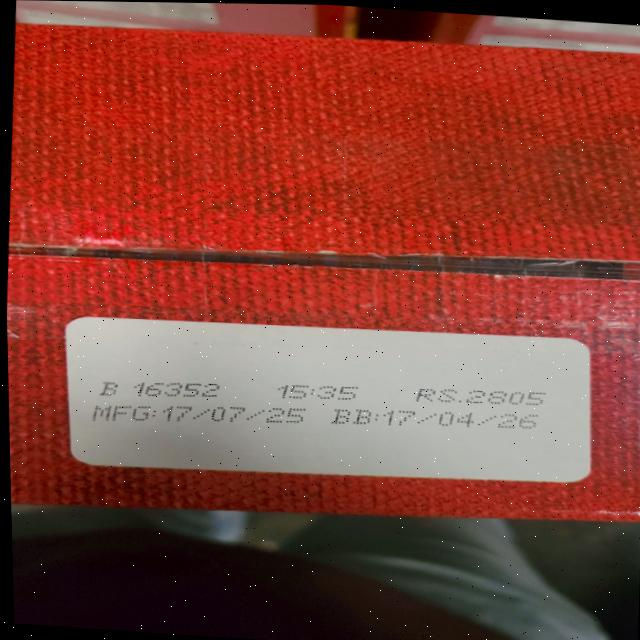BB: (332, 402, 543, 439)
Batch: (98, 377, 220, 403)
MFG: (91, 395, 309, 440)
RS: (414, 384, 549, 410)
TimeStamp: (277, 382, 361, 403)
